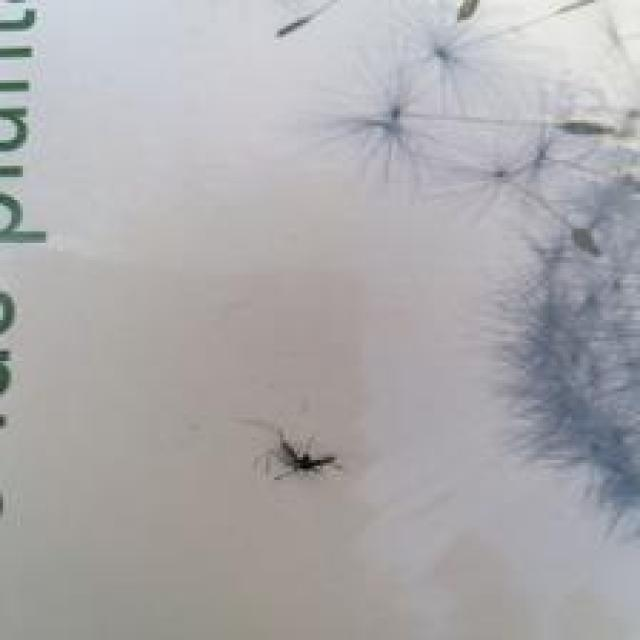Aedes albopictus: (264, 430, 339, 481)
